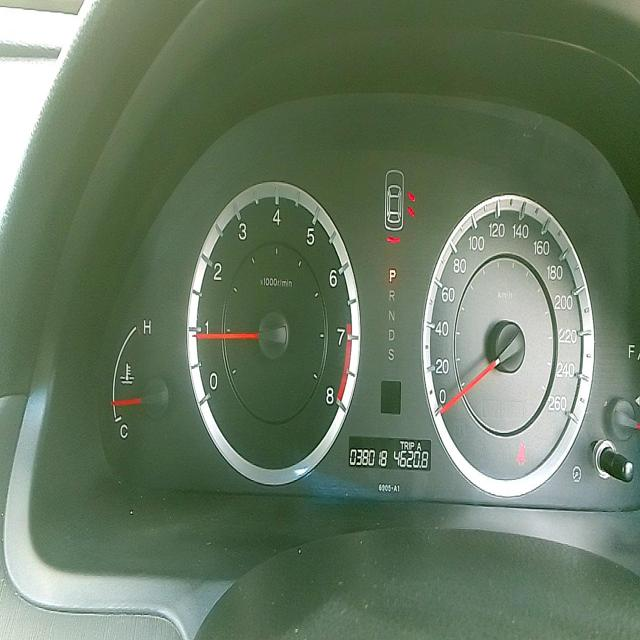odometer: (347, 445, 388, 469)
